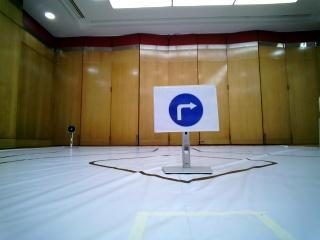right: (155, 88, 216, 131)
